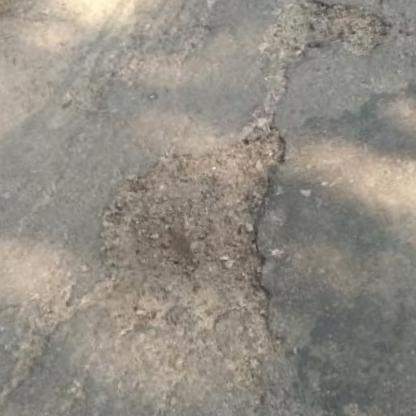pothole: (67, 113, 331, 360), (255, 0, 397, 75)
